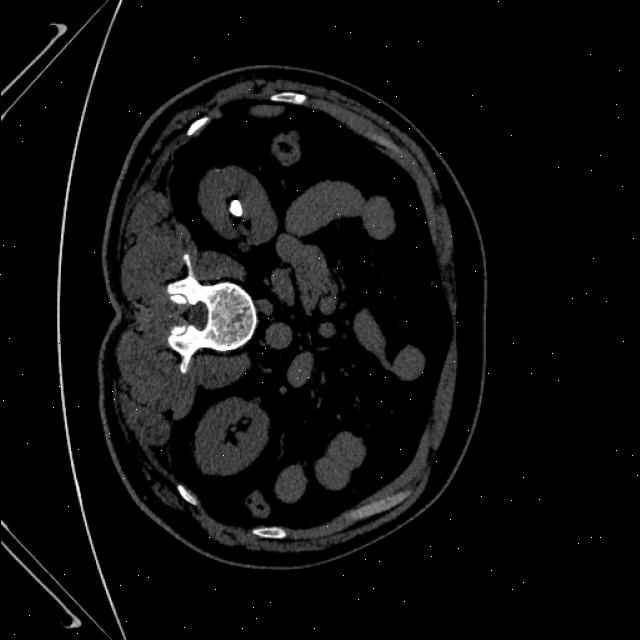kidneystone: (228, 200, 241, 218)
